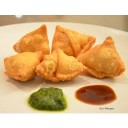samosa: (76, 36, 125, 78), (39, 47, 84, 84), (3, 49, 42, 83), (53, 24, 98, 53), (11, 25, 50, 55)
